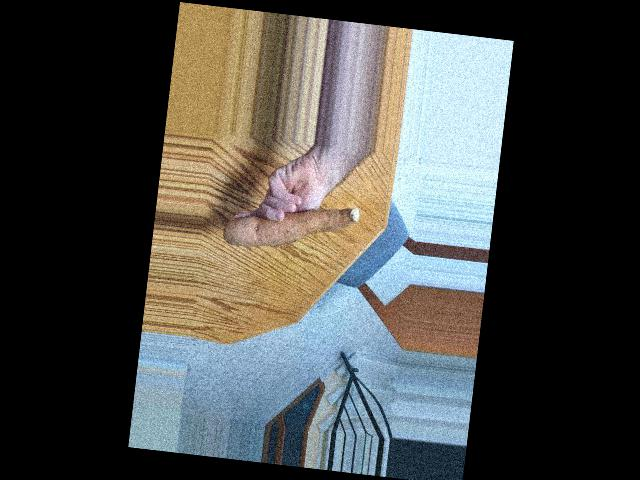sweet_potato: (220, 188, 361, 261)
